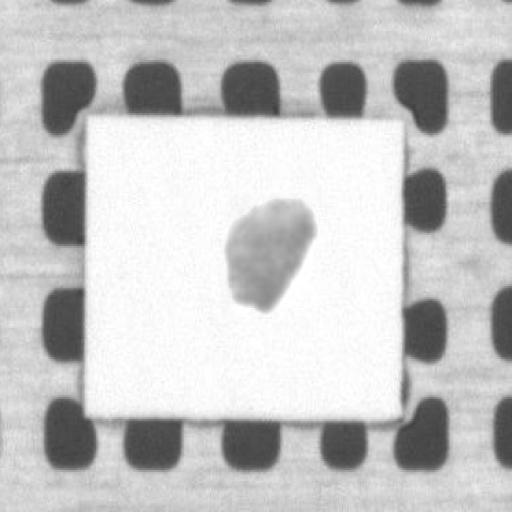DIE_INK: (220, 197, 316, 308)
